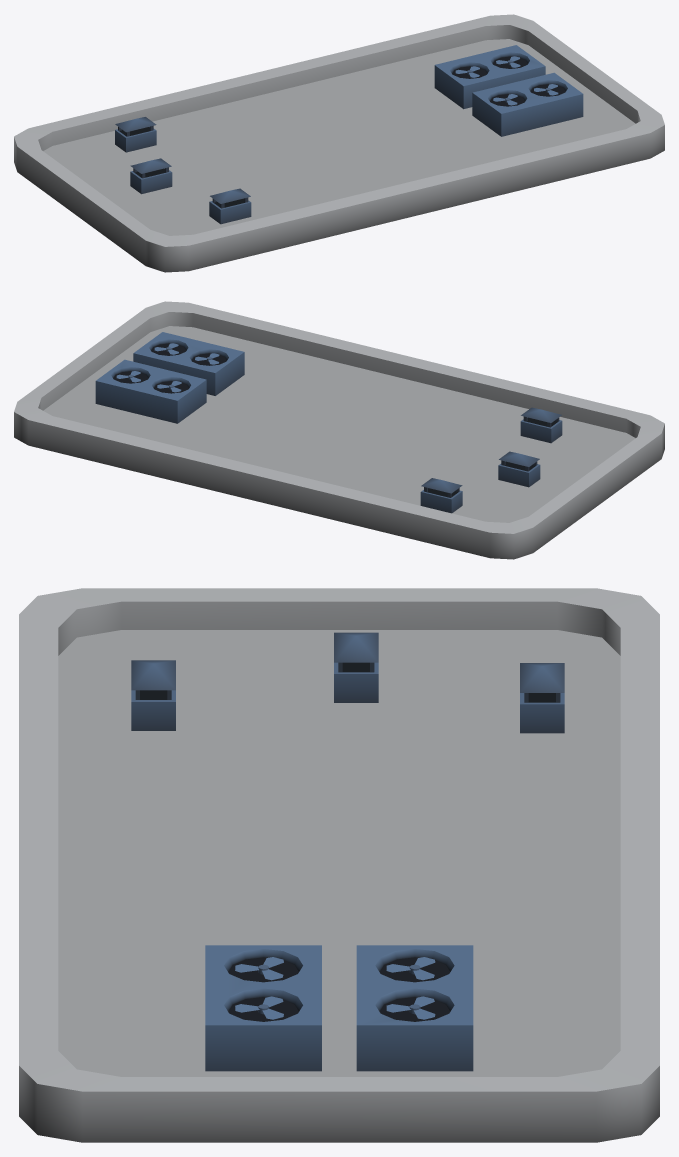
File: House 2 Roof.fbx
3 views of the same model, one above another, from view 1: azimuth 30°, elevation 25°; view 2: azimuth 150°, elevation 25°; view 3: azimuth 270°, elevation 25° (orthographic). The views are drawn at different scales.
Visible parts, largest first — view 1: Cube.021; view 2: Cube.021; view 3: Cube.021.
Boxes of the visible parts, left/top/right/bottom form: Cube.021: left=14, top=14, right=664, bottom=272; Cube.021: left=14, top=301, right=664, bottom=559; Cube.021: left=19, top=588, right=659, bottom=1142.
Bounding box in the file's own units: 212 × 14.9 × 114.
